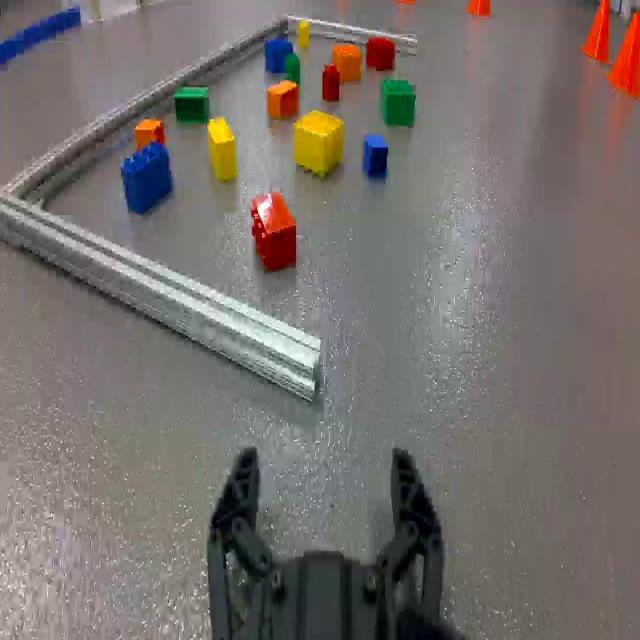block: (293, 112, 343, 176), (208, 119, 239, 184), (296, 20, 310, 46)
blue: (122, 141, 174, 218), (361, 134, 389, 182), (263, 34, 293, 72)
cone: (601, 9, 640, 98), (581, 0, 613, 61), (466, 0, 492, 21)
green: (379, 76, 414, 130), (176, 83, 208, 125), (283, 55, 303, 86)
metal barrier: (0, 13, 418, 403)
orange: (267, 80, 298, 125), (133, 116, 163, 154), (334, 47, 360, 84)
red goal: (252, 193, 298, 270), (366, 32, 394, 70), (322, 66, 340, 101)
river: (0, 2, 81, 72)
storage cube: (81, 0, 151, 31)
